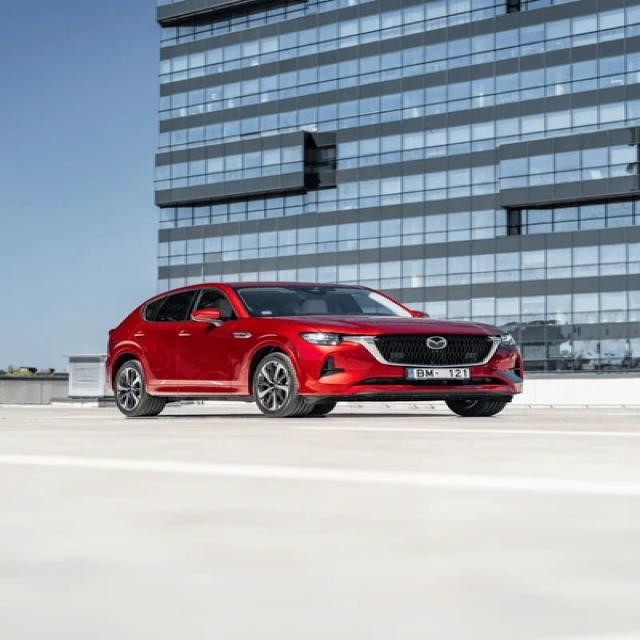mazda: (422, 334, 453, 348)
